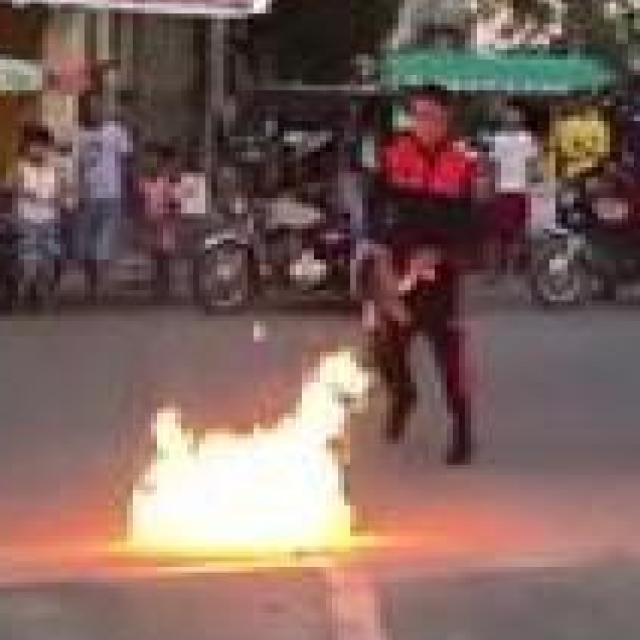Fire: (122, 349, 376, 549)
